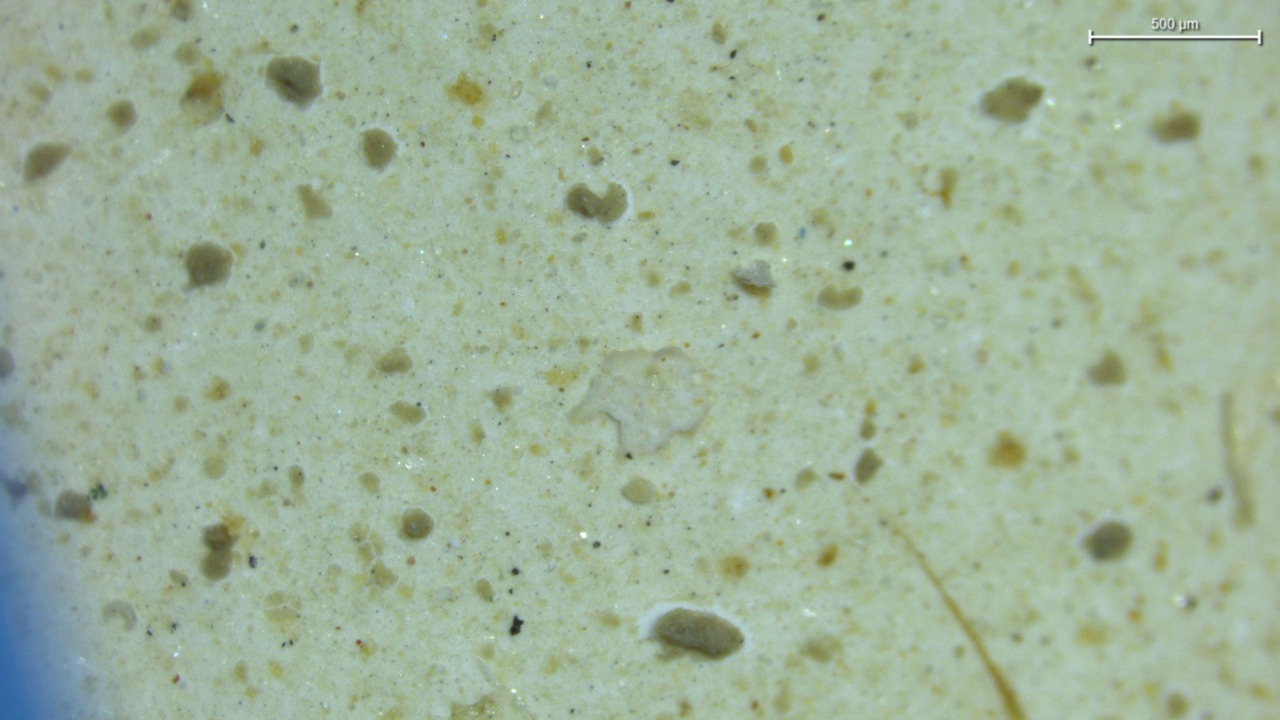microplastic_fragment: (569, 347, 708, 456), (735, 261, 775, 287)
